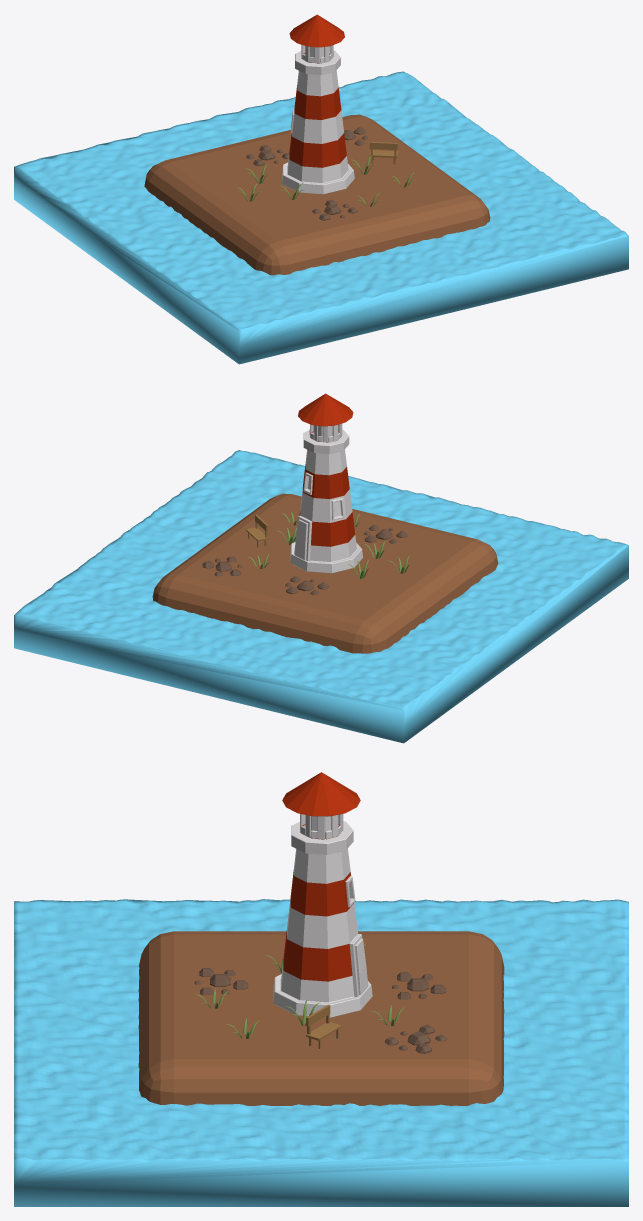
The model's file is lighthouse11.fbx.
3 renders of one model, top to bottom at view 1: azimuth 30°, elevation 25°; view 2: azimuth 150°, elevation 25°; view 3: azimuth 270°, elevation 25°, orthographic. The views are drawn at different scales.
Visible parts, largest first — view 1: Plane.001, Plane, Cylinder, Cone; view 2: Plane.001, Plane, Cylinder, Cone; view 3: Plane.001, Plane, Cylinder, Cone, Cube.
Part boxes in pixels (left/top/right/bottom): Plane.001: left=14, top=71, right=628, bottom=364; Plane: left=144, top=114, right=490, bottom=275; Cylinder: left=282, top=44, right=354, bottom=194; Cone: left=289, top=14, right=344, bottom=47; Plane.001: left=14, top=450, right=628, bottom=743; Plane: left=152, top=493, right=498, bottom=653; Cylinder: left=290, top=423, right=362, bottom=573; Cone: left=298, top=393, right=353, bottom=426; Plane.001: left=14, top=899, right=628, bottom=1206; Plane: left=138, top=931, right=504, bottom=1105; Cylinder: left=273, top=814, right=372, bottom=1017; Cone: left=282, top=772, right=360, bottom=816; Cube: left=306, top=1004, right=341, bottom=1048.
Bounding box in the file's own units: 12879 × 6978 × 12879.
